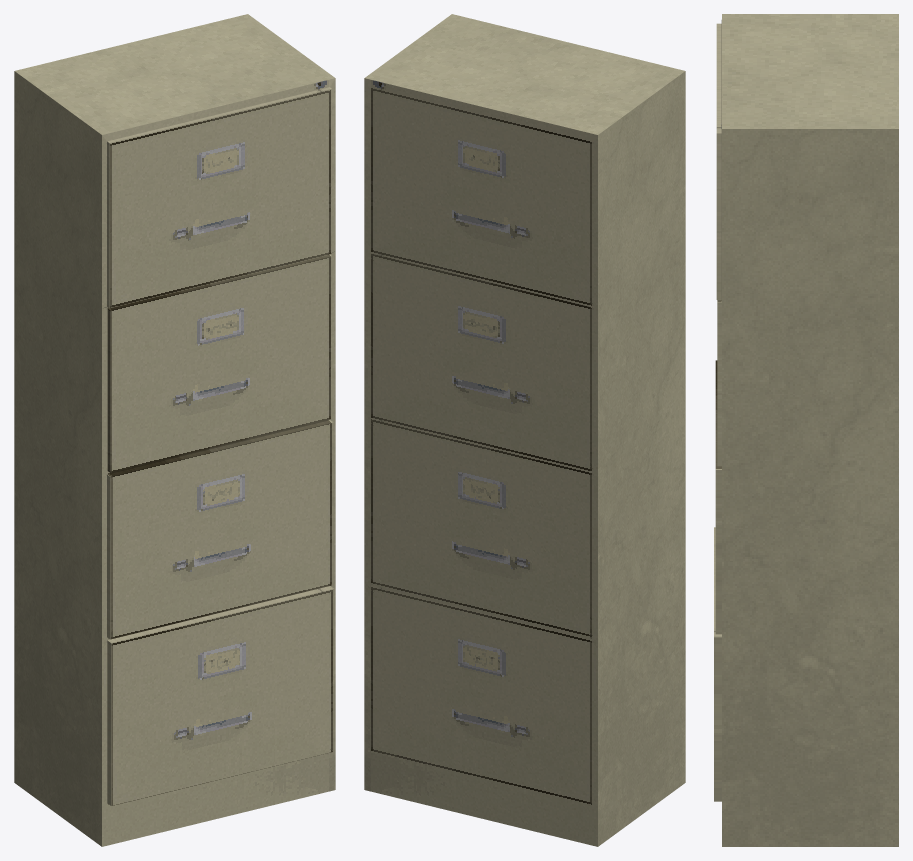
The model's file is cabinet.glb.
3 renders of one model, left to right at view 1: azimuth 30°, elevation 25°; view 2: azimuth 150°, elevation 25°; view 3: azimuth 270°, elevation 25°, orthographic.
Visible parts, largest first — view 1: Cube; view 2: Cube; view 3: Cube.
Boxes of the visible parts, <box> form: Cube: <box>14,14,335,846</box>; Cube: <box>364,14,685,846</box>; Cube: <box>714,14,898,846</box>.
Size of the model in its own units: 0.5149 by 1.5 by 0.3498.
Materials: 1 (1 with a texture image).
